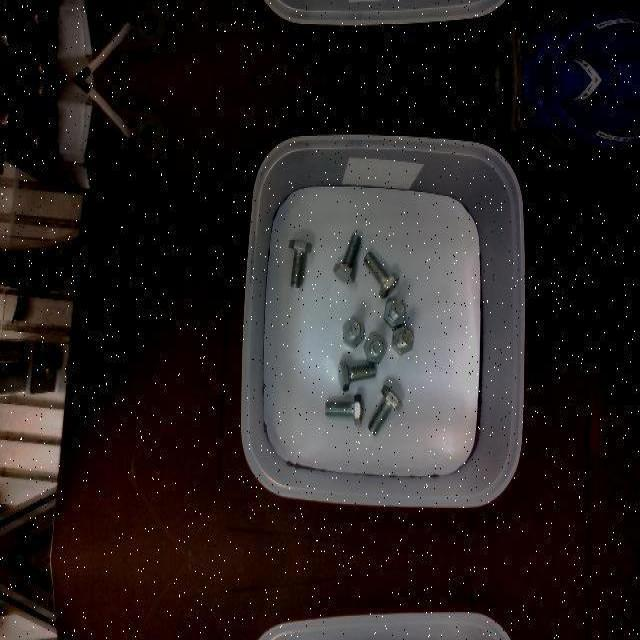screw: (367, 384, 401, 434), (364, 250, 399, 298), (333, 233, 361, 283), (338, 357, 376, 391), (287, 239, 311, 287), (325, 394, 363, 424), (363, 331, 387, 361), (391, 325, 414, 355), (384, 296, 406, 326), (342, 317, 364, 347)
